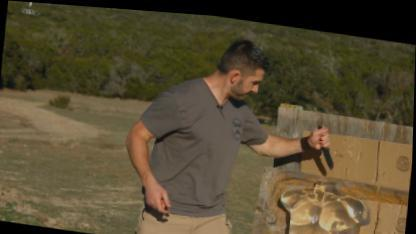knife: (310, 114, 338, 167)
